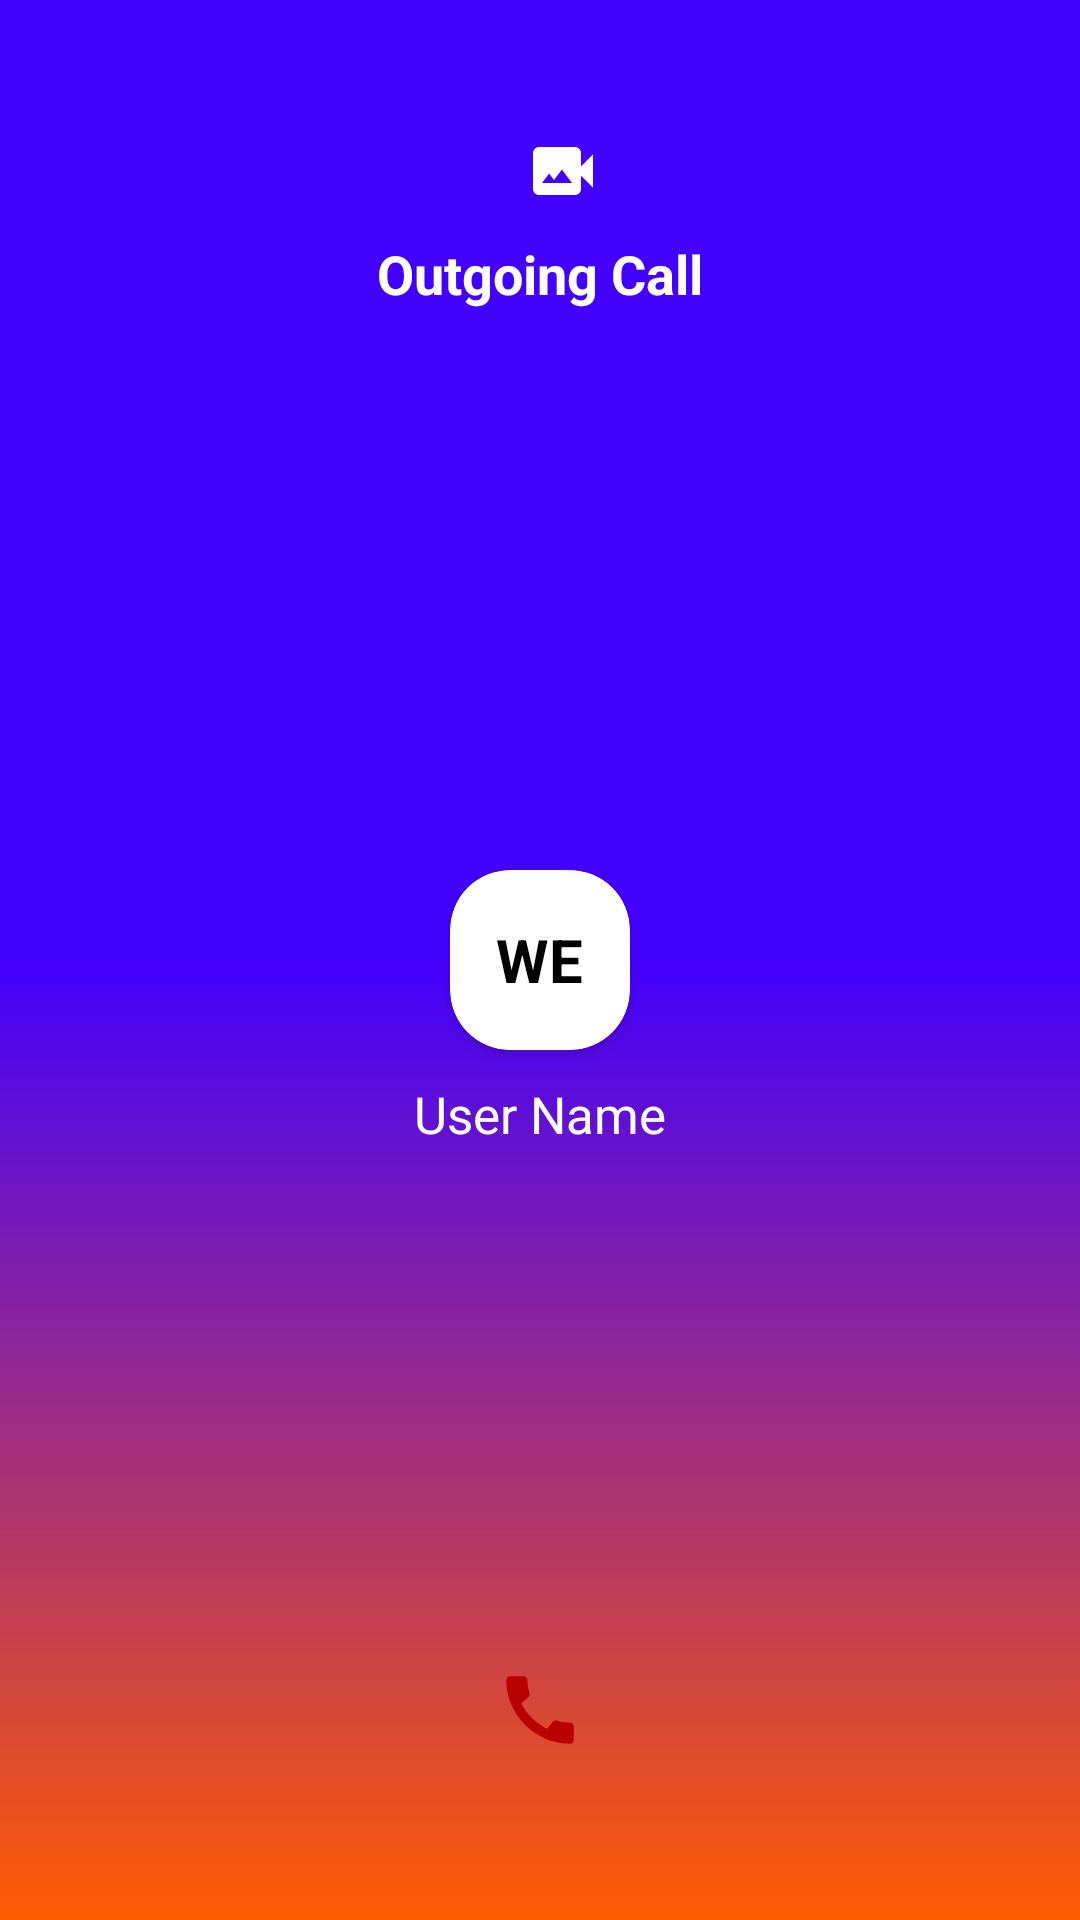

Where to tap for icons on this 1080px x 1920px app screen, as [x,y]:
video: [563,171]
